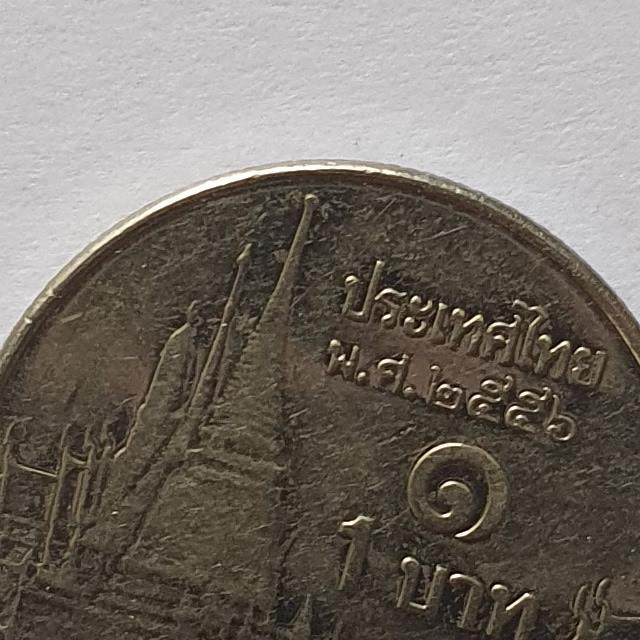1 Bath: (2, 152, 640, 640)
